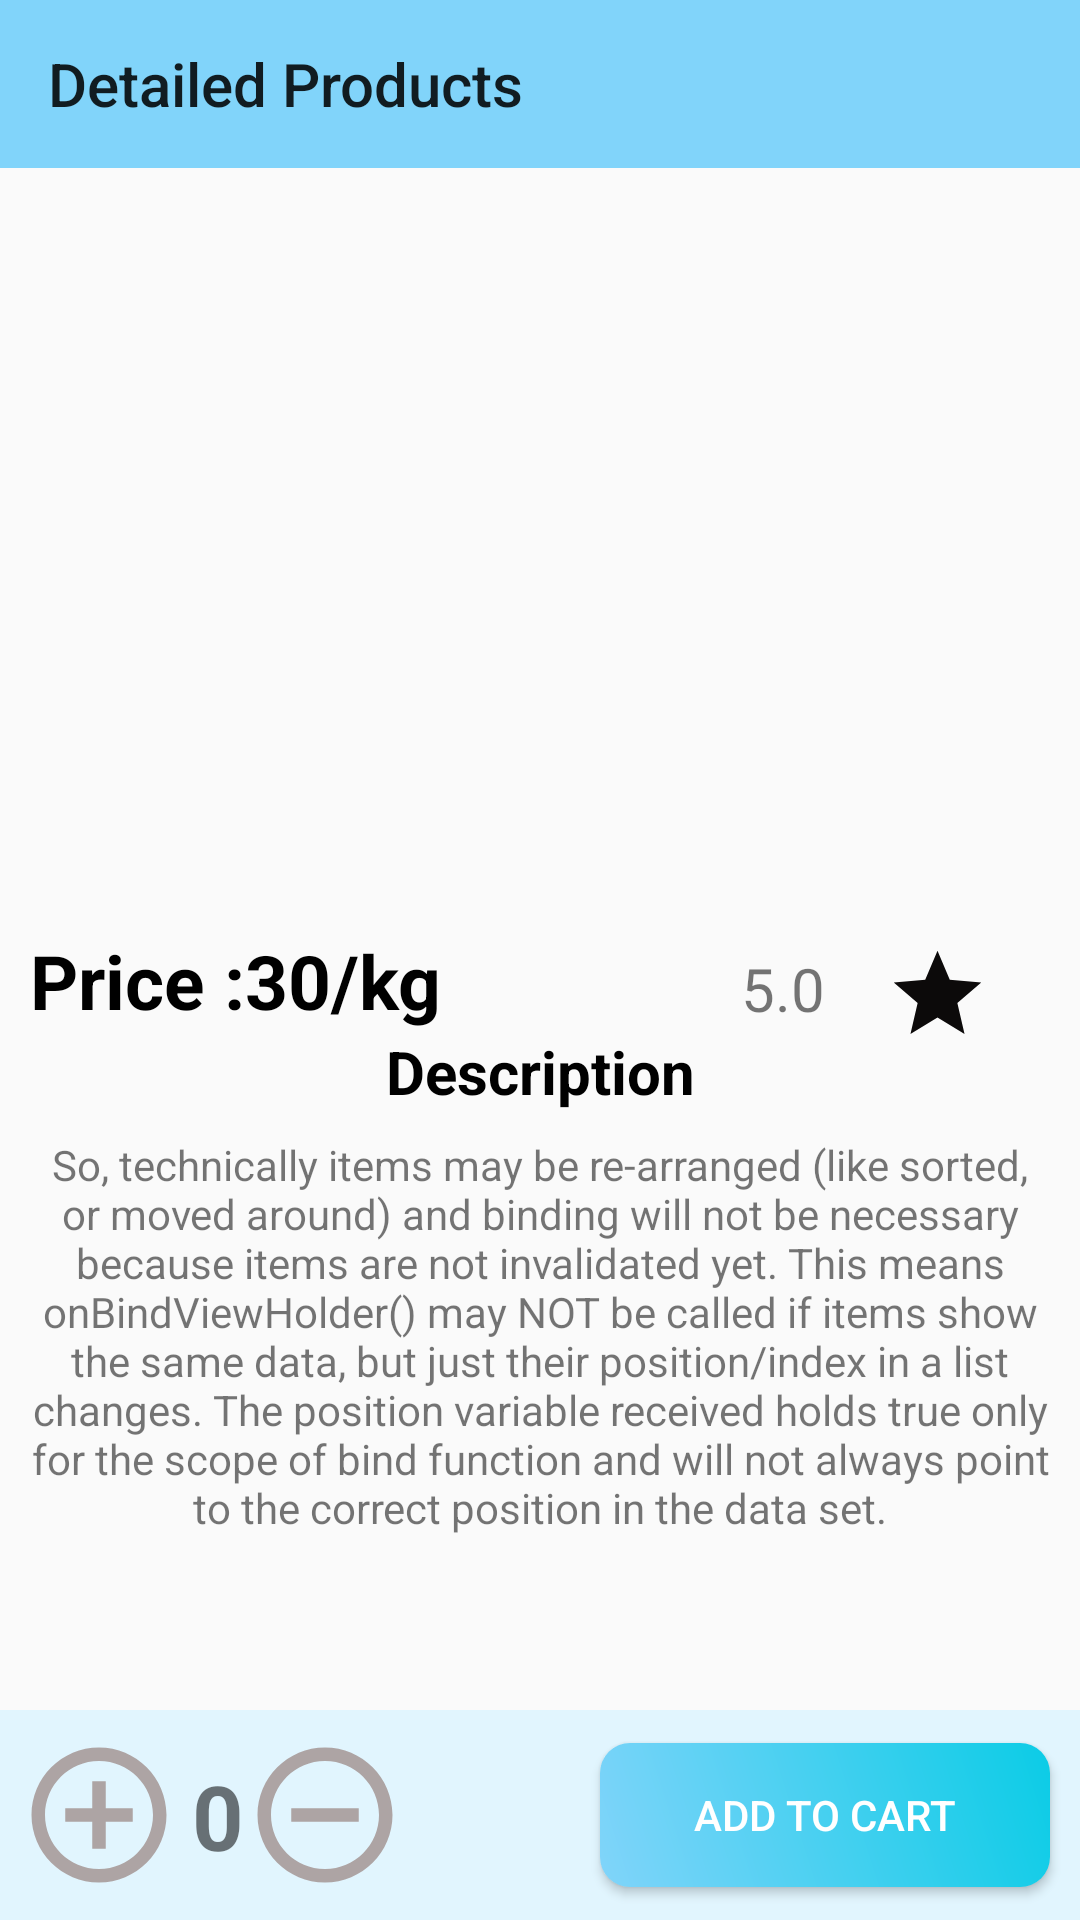

Screen size 1080w x 1920h. Icon name, then its box in pixels as box=[x1, y1, x2, y2]:
add circle: box=[31, 1747, 167, 1883]
remove circle: box=[257, 1747, 393, 1883]
star: box=[894, 951, 981, 1034]
